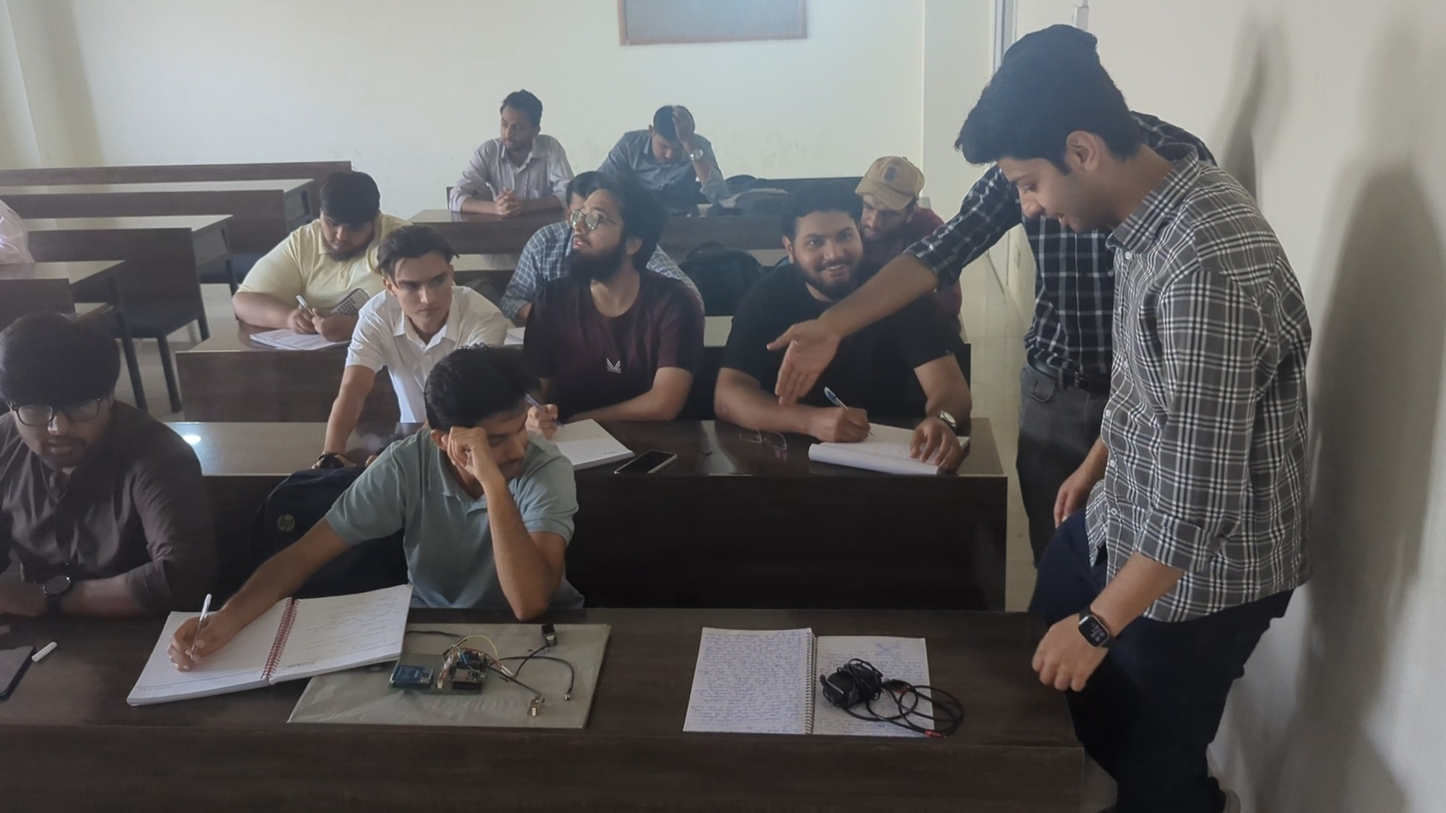look_forward: (3, 304, 214, 651), (712, 184, 970, 467), (526, 183, 696, 416), (444, 84, 566, 215)
stand: (942, 25, 1316, 715), (951, 144, 1138, 513)
turn_head: (329, 346, 586, 610), (327, 223, 483, 355)
write: (229, 167, 378, 350), (611, 104, 736, 209), (855, 155, 952, 248)
